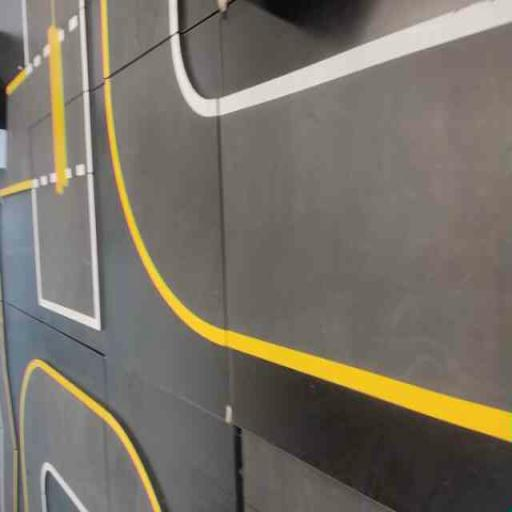right: (99, 12, 229, 407)
